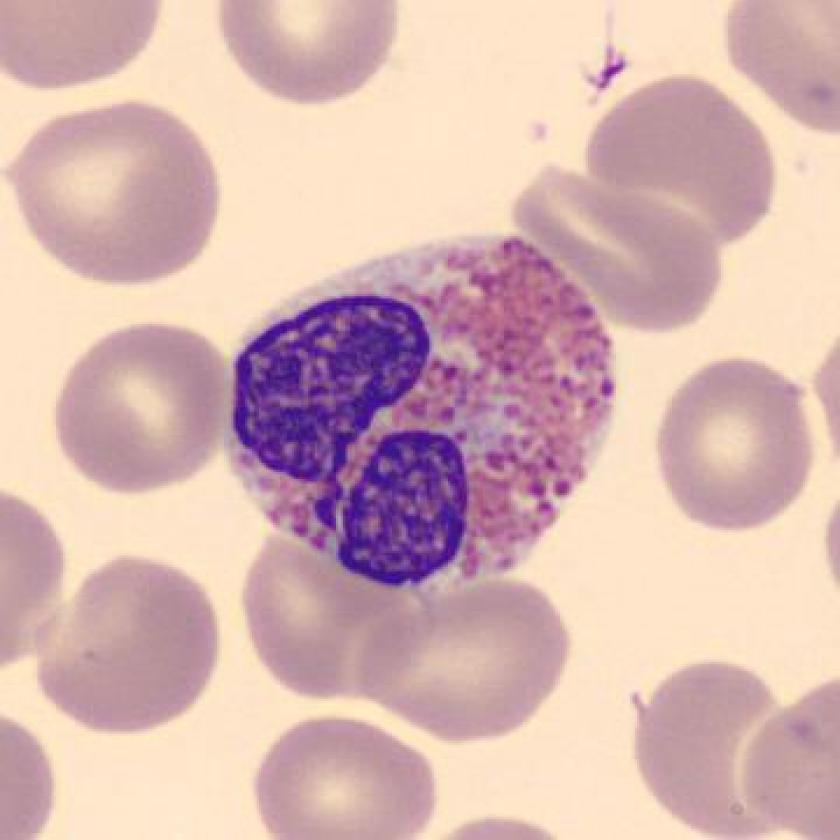eosinophil: (206, 210, 636, 608)
